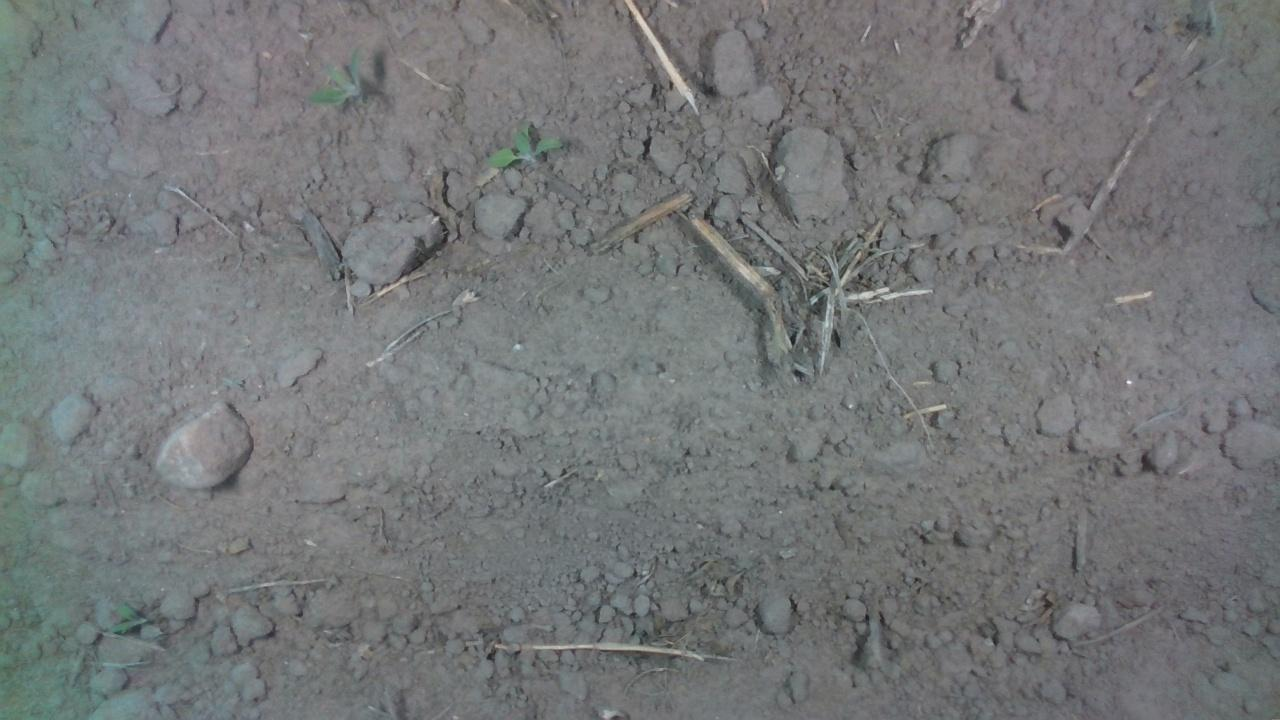weed: (483, 116, 564, 169)
